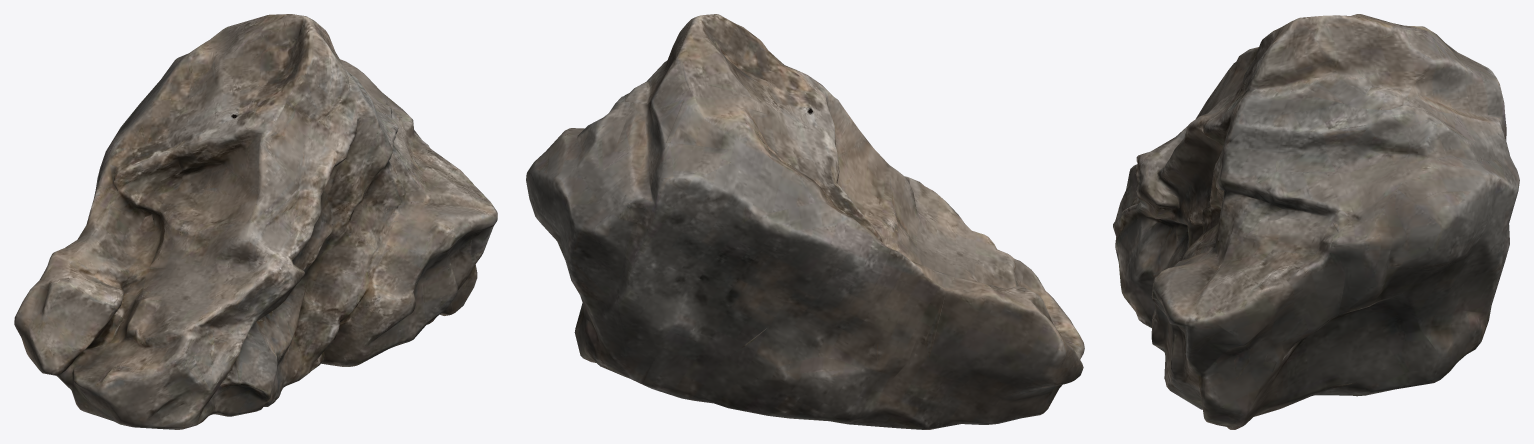
The model's file is rock-ridge-hero.glb.
The picture shows the model from 3 angles, left to right: view 1: azimuth 30°, elevation 25°; view 2: azimuth 150°, elevation 25°; view 3: azimuth 270°, elevation 25°; orthographic projection. The views are drawn at different scales.
Visible parts, largest first — view 1: Meshy_Mesh1.0; view 2: Meshy_Mesh1.0; view 3: Meshy_Mesh1.0.
Boxes of the visible parts, box(x1,y1,x2,y2) form: Meshy_Mesh1.0: box(14, 14, 497, 429); Meshy_Mesh1.0: box(526, 14, 1084, 429); Meshy_Mesh1.0: box(1113, 14, 1519, 429).
Bounding box in the file's own units: 1.91 × 1.28 × 1.25.
Materials: 1 (1 with a texture image).
